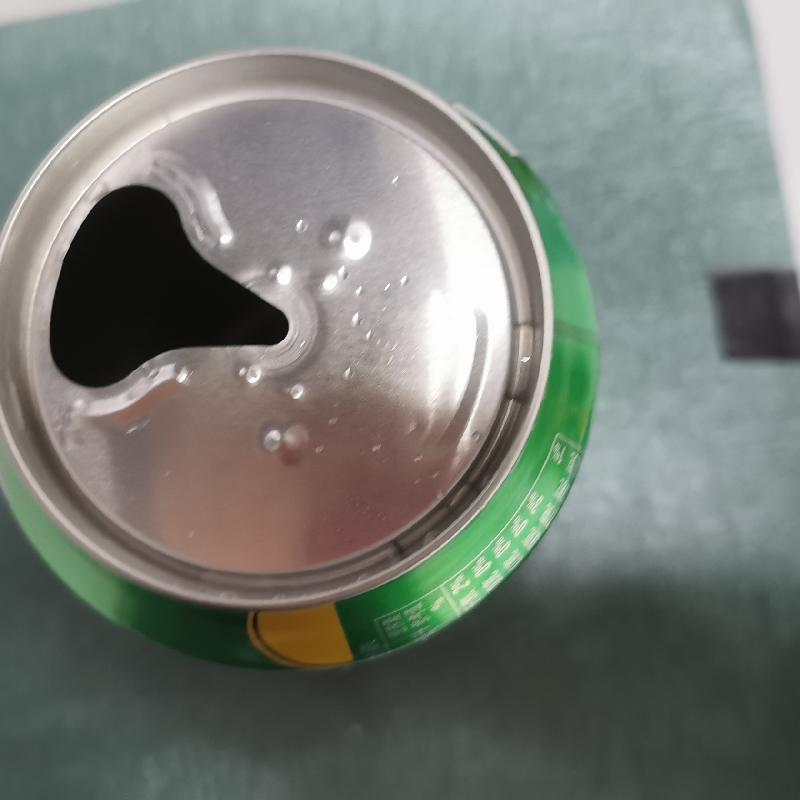cans: (11, 55, 601, 673)
